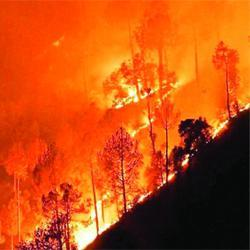fire: (71, 222, 98, 244), (124, 84, 143, 101), (210, 119, 226, 137), (132, 192, 153, 203), (164, 176, 181, 183)
